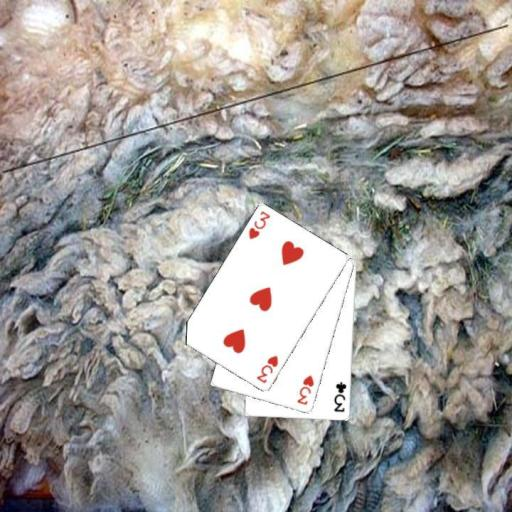3C: (332, 379, 349, 414)
3H: (245, 208, 272, 241), (253, 353, 280, 385), (294, 372, 316, 407)
